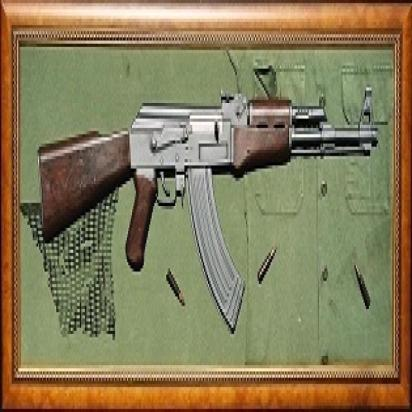Gun: (38, 77, 378, 330)
